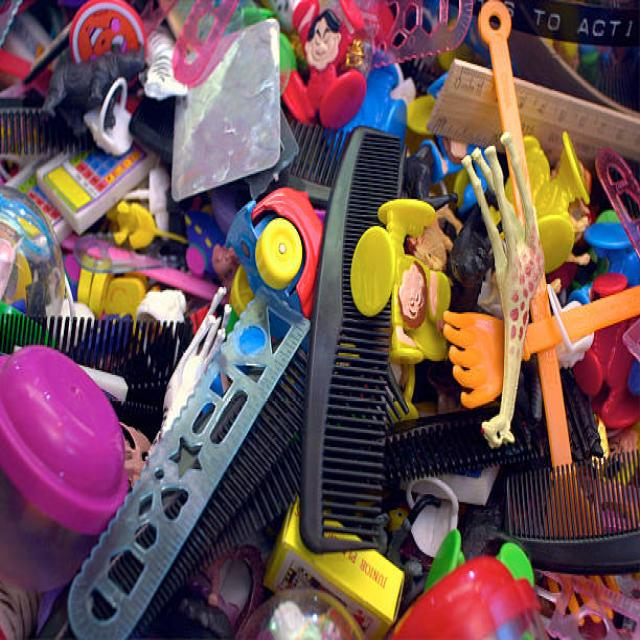trash: (7, 19, 638, 591)
